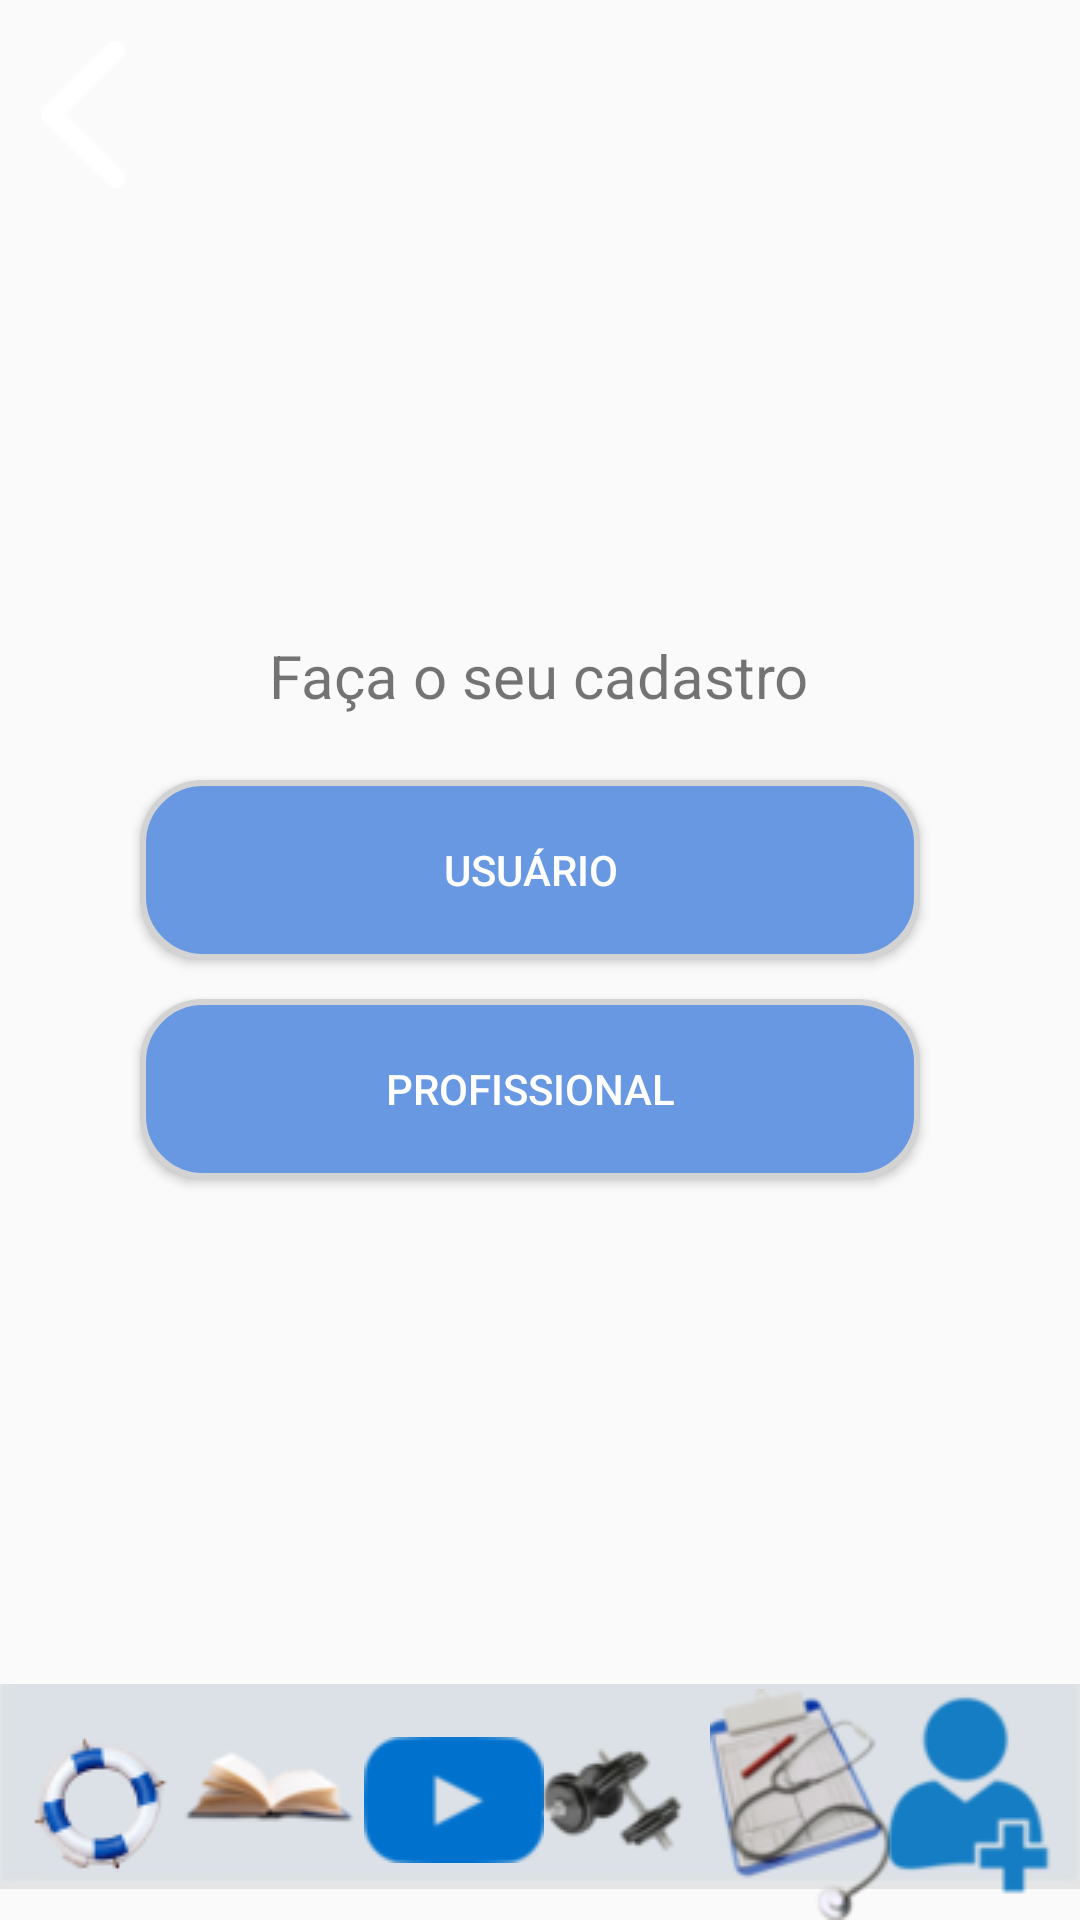

Icons on this 1080x1920 Android screen, each with the point to tap as [x,y]:
ajudabotao: [100,1803]
iconecadastromenu: [972,1796]
iconelivromenu: [270,1788]
iconexerciciosmenu: [608,1806]
